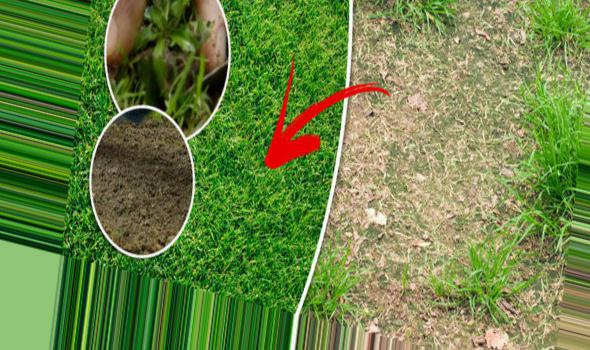patch: (362, 51, 466, 240), (100, 141, 157, 230), (471, 94, 510, 185), (372, 265, 424, 299)
